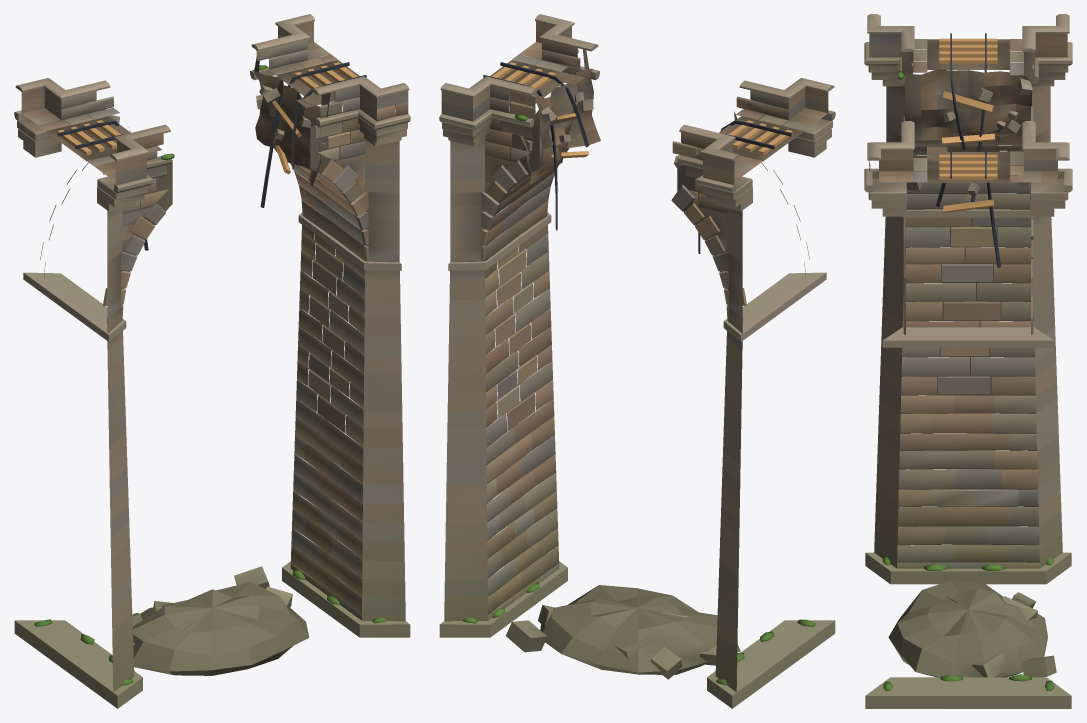
File: viaduct-broken.glb
The picture shows the model from 3 angles, left to right: view 1: azimuth 30°, elevation 25°; view 2: azimuth 150°, elevation 25°; view 3: azimuth 270°, elevation 25°; orthographic projection.
Visible parts, largest first — view 1: viaduct-broken Viaduct stone, viaduct-broken Ballast, viaduct-broken Fresh timber, viaduct-broken Iron, viaduct-broken Moss; view 2: viaduct-broken Viaduct stone, viaduct-broken Ballast, viaduct-broken Fresh timber, viaduct-broken Iron, viaduct-broken Moss; view 3: viaduct-broken Viaduct stone, viaduct-broken Fresh timber, viaduct-broken Ballast, viaduct-broken Iron, viaduct-broken Moss.
Part boxes in pixels (x1,y1,x2,y2): viaduct-broken Viaduct stone: [14, 14, 410, 708]; viaduct-broken Ballast: [45, 60, 359, 161]; viaduct-broken Fresh timber: [57, 62, 357, 174]; viaduct-broken Iron: [58, 62, 366, 250]; viaduct-broken Moss: [34, 65, 386, 685]; viaduct-broken Viaduct stone: [439, 14, 835, 708]; viaduct-broken Ballast: [490, 60, 804, 161]; viaduct-broken Fresh timber: [492, 62, 792, 158]; viaduct-broken Iron: [483, 62, 791, 253]; viaduct-broken Moss: [462, 114, 815, 685]; viaduct-broken Viaduct stone: [864, 14, 1072, 708]; viaduct-broken Fresh timber: [939, 38, 997, 213]; viaduct-broken Ballast: [927, 39, 1009, 182]; viaduct-broken Iron: [936, 33, 1001, 267]; viaduct-broken Moss: [882, 71, 1054, 690].
Size of the model in its own units: 14 by 25.56 by 8.6.
